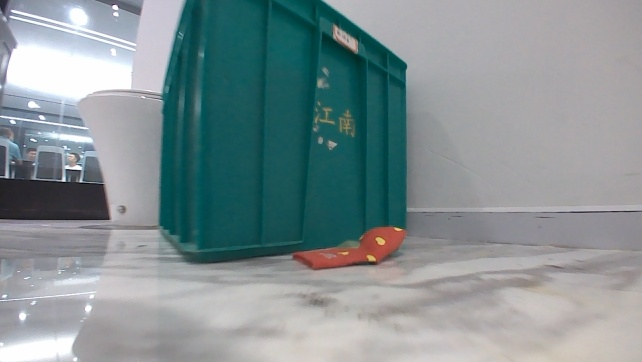socks: (292, 224, 408, 270)
toilet: (74, 86, 165, 229)
